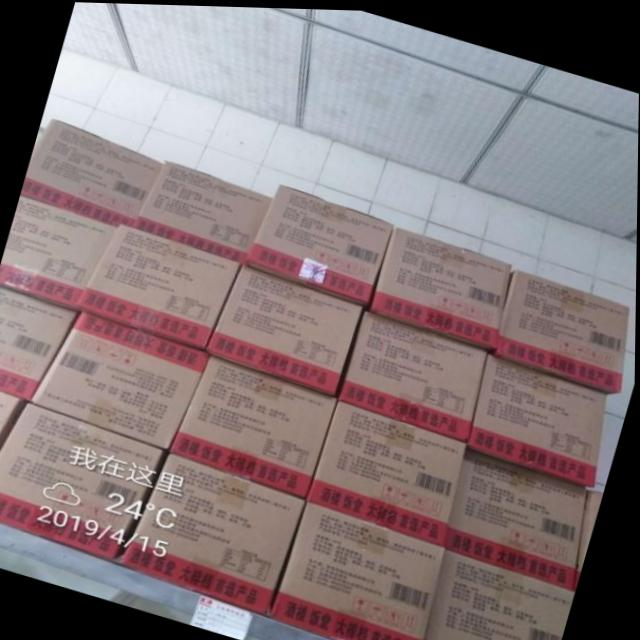box: (117, 451, 307, 613), (22, 307, 212, 449), (0, 402, 169, 558), (170, 351, 339, 500), (266, 501, 446, 640), (307, 397, 467, 544), (209, 259, 366, 394), (80, 219, 243, 348), (446, 443, 592, 584), (339, 304, 487, 438), (467, 346, 608, 484), (241, 182, 393, 305), (370, 225, 517, 346), (490, 266, 630, 390), (22, 116, 165, 224), (427, 543, 576, 640), (130, 159, 271, 258), (0, 196, 120, 308), (0, 284, 80, 401), (577, 485, 603, 582), (0, 393, 29, 451)
